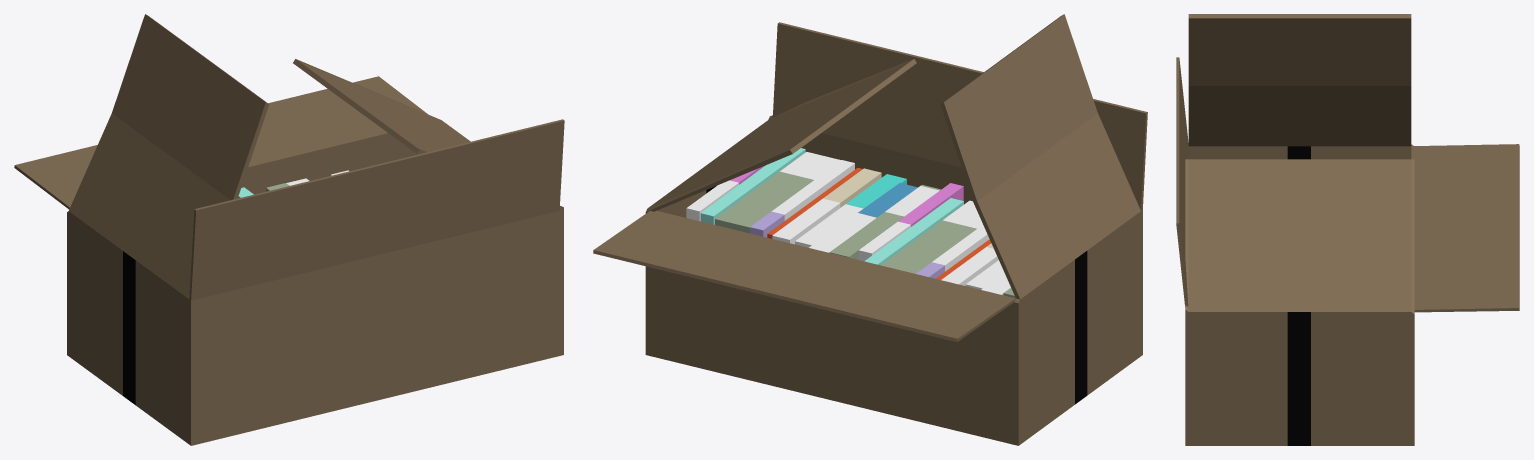
Rendered from Cardboard_book.glb.
3 renders of one model, left to right at view 1: azimuth 30°, elevation 25°; view 2: azimuth 150°, elevation 25°; view 3: azimuth 270°, elevation 25°, orthographic. The views are drawn at different scales.
Visible parts, largest first — view 1: cardboard_genpon.001; view 2: cardboard_genpon.001, Cube.018, Cube.010, Cube.015, Cube.017, Cube.004, Cube.013, Cube.014, Cube.012, Cube.019, Cube.011, Cube.009 (+3 smaller); view 3: cardboard_genpon.001.
Boxes of the visible parts, bbox=[...] form: cardboard_genpon.001: bbox=[14, 14, 564, 445]; cardboard_genpon.001: bbox=[593, 14, 1147, 445]; Cube.018: bbox=[715, 152, 840, 233]; Cube.010: bbox=[881, 200, 982, 273]; Cube.015: bbox=[772, 168, 881, 244]; Cube.017: bbox=[750, 160, 854, 237]; Cube.004: bbox=[829, 185, 940, 259]; Cube.013: bbox=[809, 183, 917, 252]; Cube.014: bbox=[795, 174, 906, 247]; Cube.012: bbox=[858, 183, 963, 261]; Cube.019: bbox=[700, 148, 805, 224]; Cube.011: bbox=[864, 198, 963, 265]; Cube.009: bbox=[916, 225, 989, 278]; cardboard_genpon.001: bbox=[1176, 14, 1519, 445].
Size of the model in its own units: 2 by 1.66 by 1.73.
